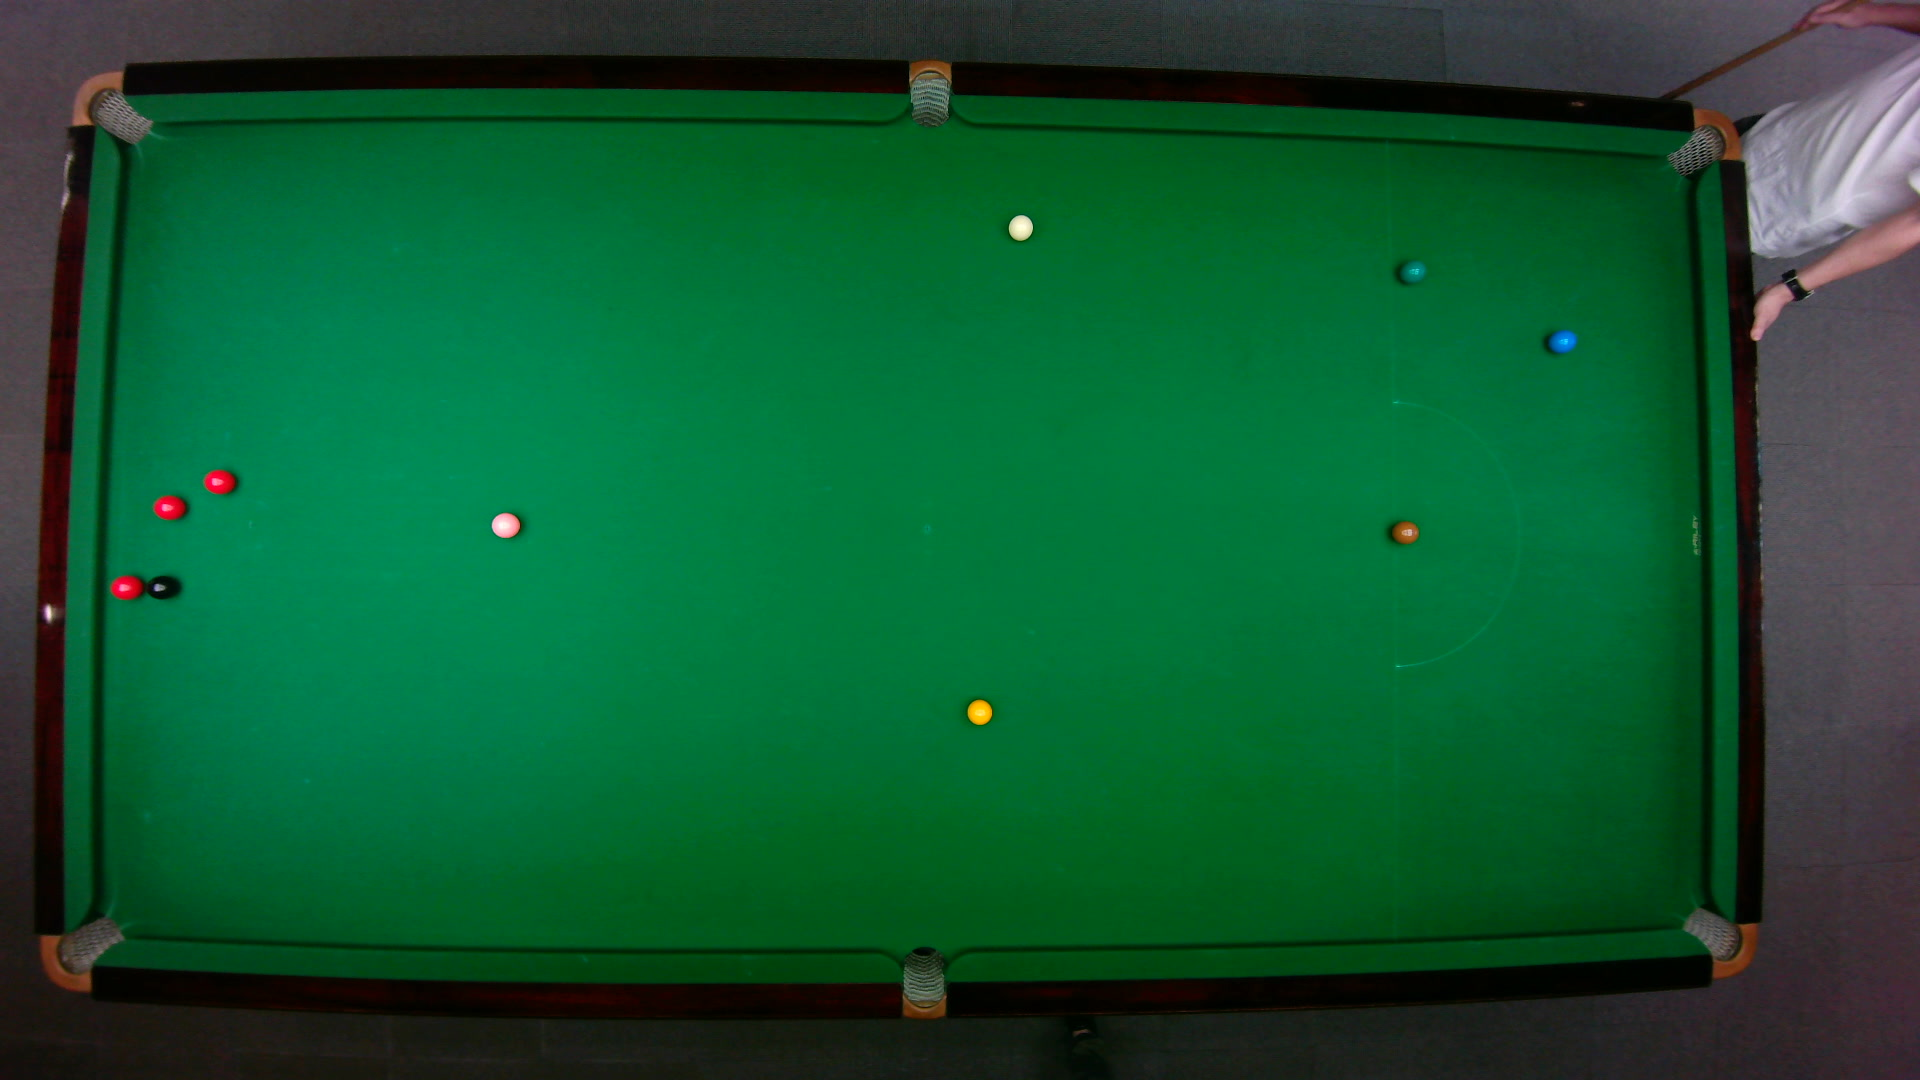bag: (37, 913, 127, 992), (69, 70, 152, 145), (1677, 905, 1756, 978), (1665, 105, 1741, 178), (901, 944, 945, 1021), (909, 57, 949, 128)
black: (145, 574, 178, 600)
blue: (1545, 327, 1577, 353)
brown: (1389, 520, 1419, 545)
green: (1396, 258, 1427, 284)
pink: (489, 509, 521, 539)
red: (107, 572, 142, 600), (203, 467, 236, 495), (152, 493, 186, 520)
white: (1006, 214, 1034, 241)
yellow: (964, 696, 993, 727)
zone: (1390, 400, 1520, 667)
